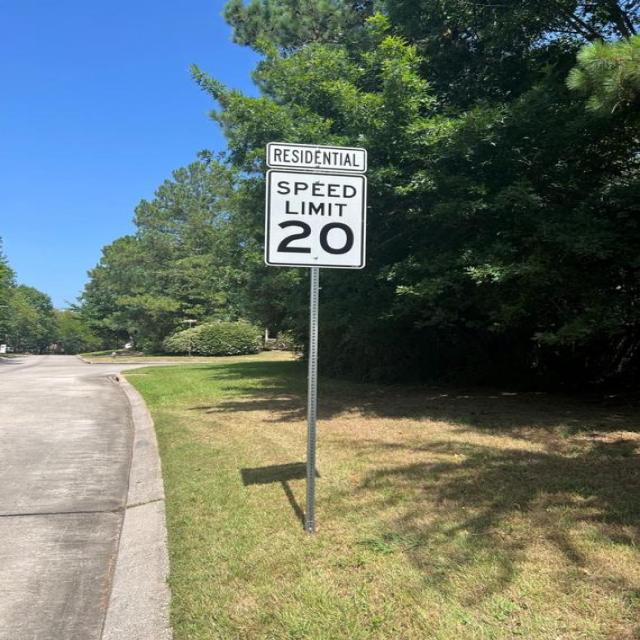speedLimit20: (261, 170, 373, 271)
